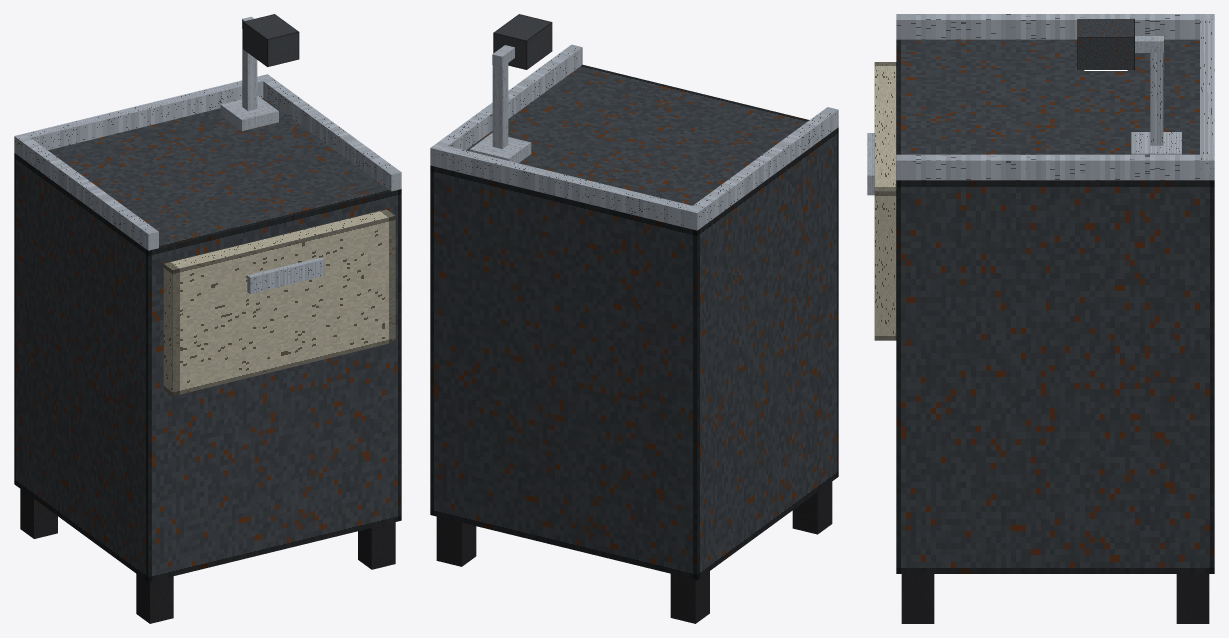
Rendered from nightstand.glb.
3 views of the same model, side by side, from view 1: azimuth 30°, elevation 25°; view 2: azimuth 150°, elevation 25°; view 3: azimuth 270°, elevation 25° (orthographic). The views are drawn at different scales.
Visible parts, largest first — view 1: bn_nightstand_sample; view 2: bn_nightstand_sample; view 3: bn_nightstand_sample.
Part boxes in pixels (x1=…): bn_nightstand_sample: x1=14, y1=14, x2=401, y2=623; bn_nightstand_sample: x1=430, y1=14, x2=838, y2=623; bn_nightstand_sample: x1=867, y1=14, x2=1214, y2=623.
Bounding box in the file's own units: 0.48 × 0.875 × 0.48.
5 materials, 5 textured.
